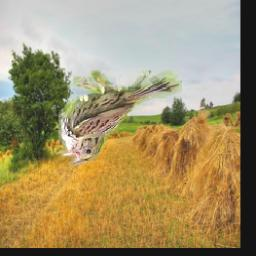Sparrow: (57, 71, 181, 166)
